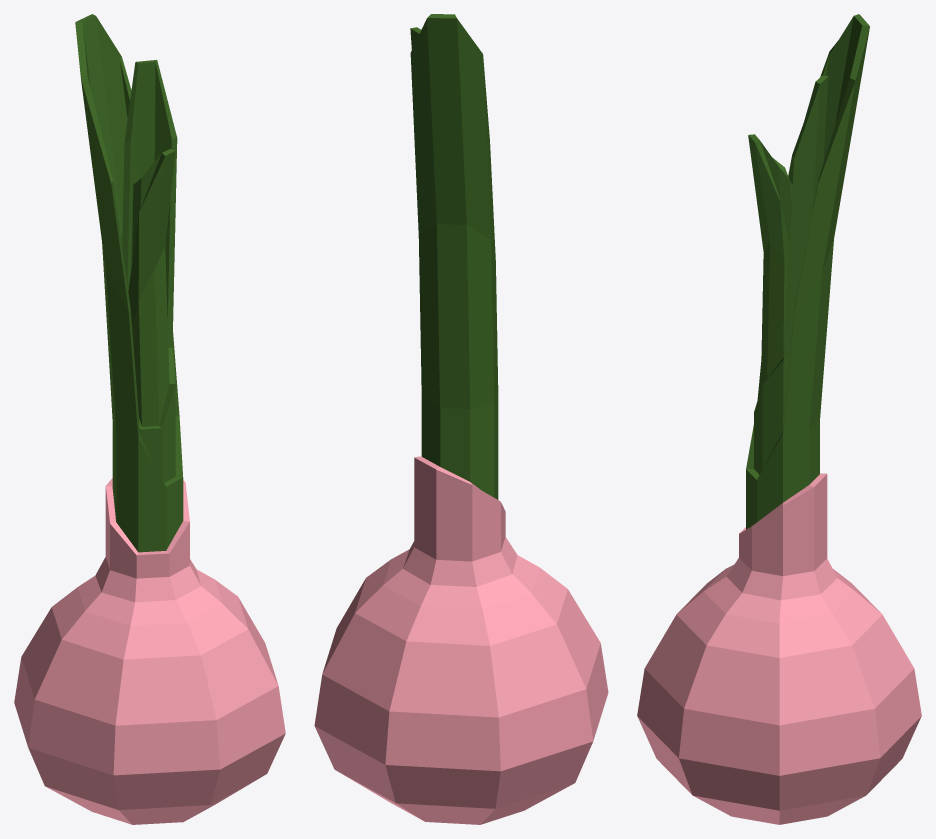
Rendered from Onion_4.fbx.
The picture shows the model from 3 angles, left to right: view 1: azimuth 30°, elevation 25°; view 2: azimuth 150°, elevation 25°; view 3: azimuth 270°, elevation 25°; orthographic projection. The views are drawn at different scales.
Parts seen in each view (by area): view 1: Onion_5; view 2: Onion_5; view 3: Onion_5.
Part boxes in pixels (<box>): Onion_5: <box>14,14,285,824</box>; Onion_5: <box>314,14,608,824</box>; Onion_5: <box>637,14,921,824</box>.
Size of the model in its own units: 67.35 by 200 by 67.35.
